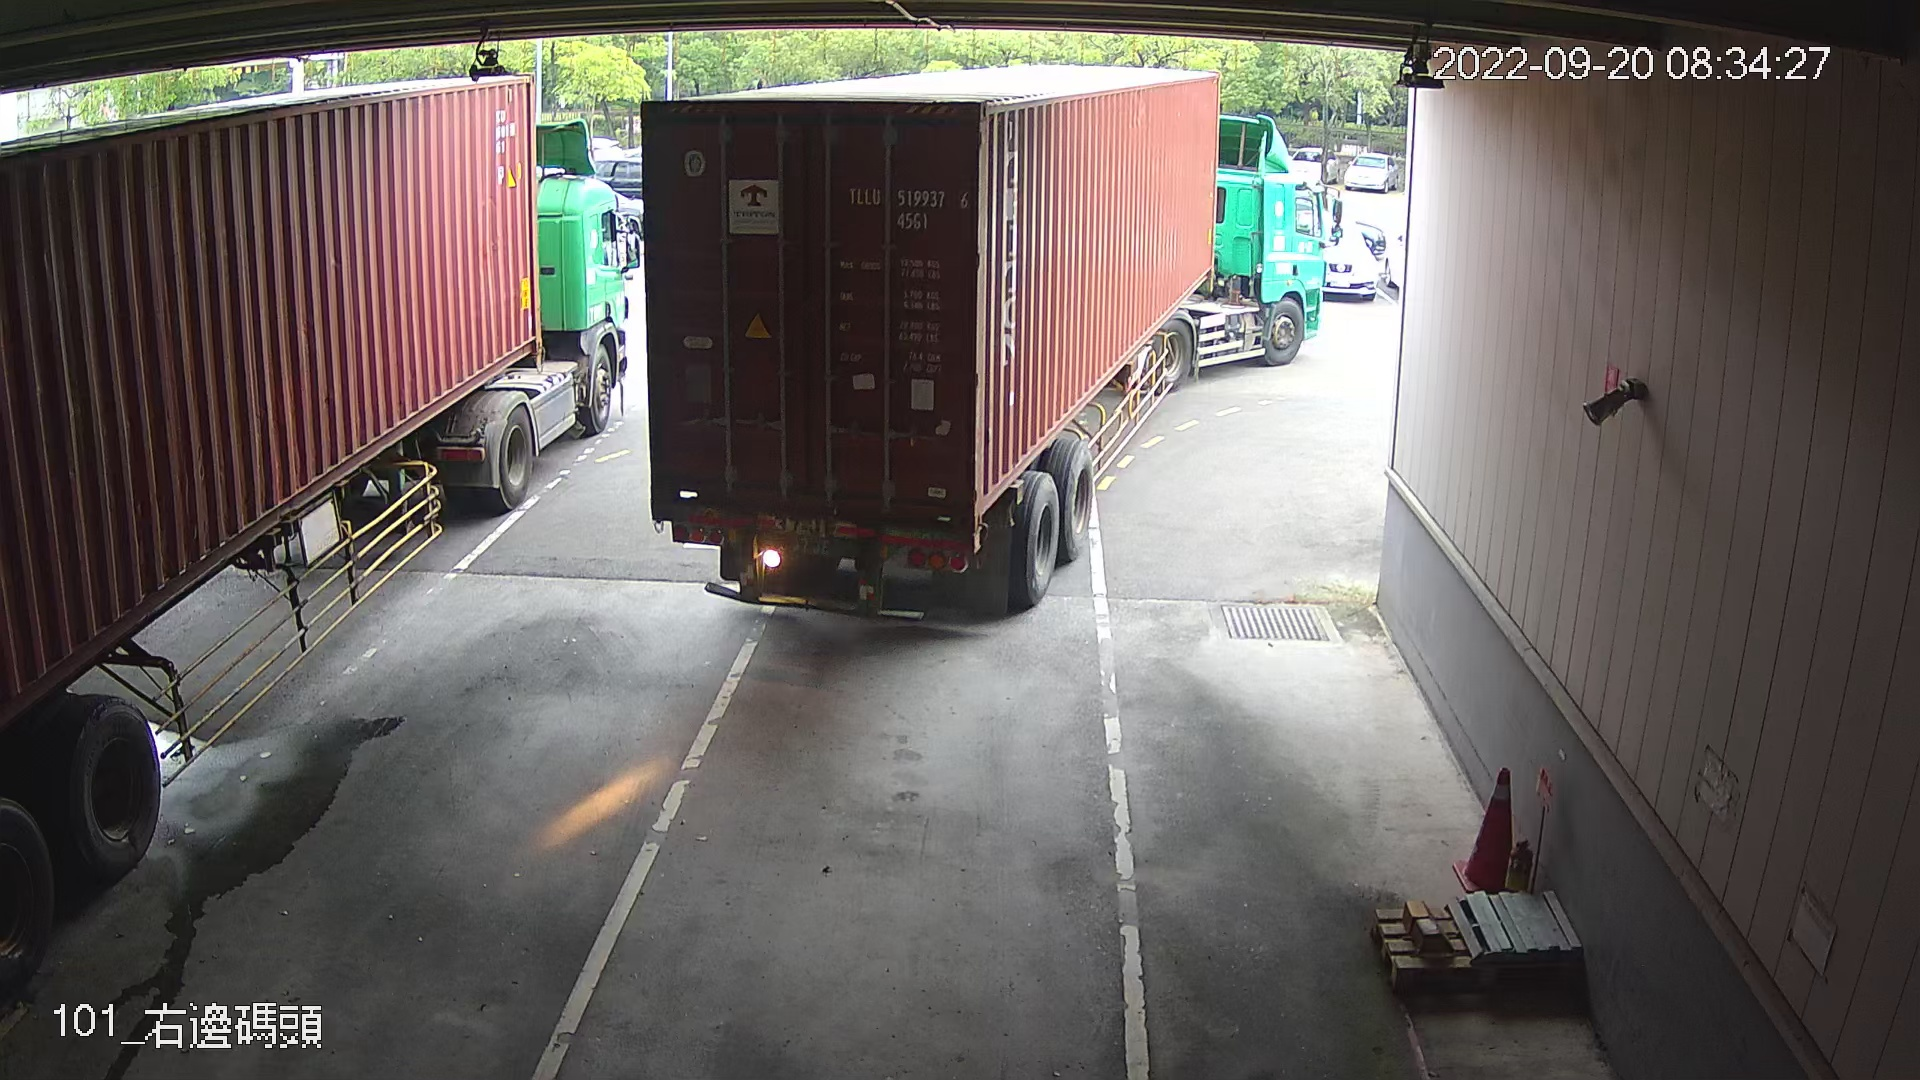container: (837, 175, 972, 237)
